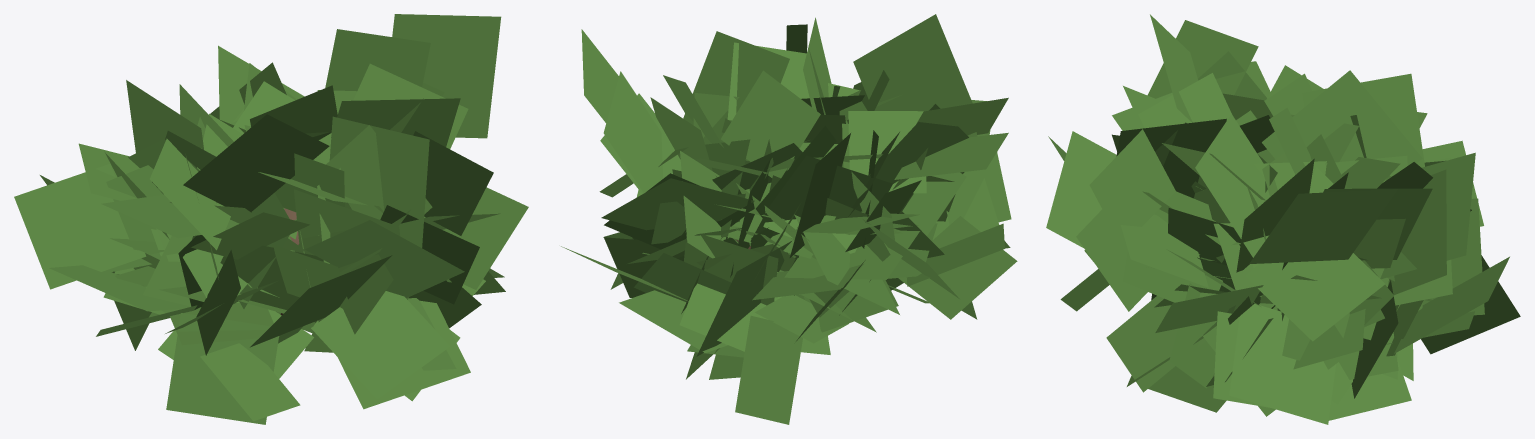
Rendered from foliage-shrub-light.glb.
3 renders of one model, left to right at view 1: azimuth 30°, elevation 25°; view 2: azimuth 150°, elevation 25°; view 3: azimuth 270°, elevation 25°, orthographic. The views are drawn at different scales.
Parts seen in each view (by area): view 1: leaves; view 2: leaves; view 3: leaves.
Part boxes in pixels (left/top/right/bottom): leaves: left=14, top=14, right=528, bottom=424; leaves: left=561, top=14, right=1017, bottom=424; leaves: left=1046, top=14, right=1520, bottom=424.
Bounding box in the file's own units: 3.8 × 2.76 × 3.56.
